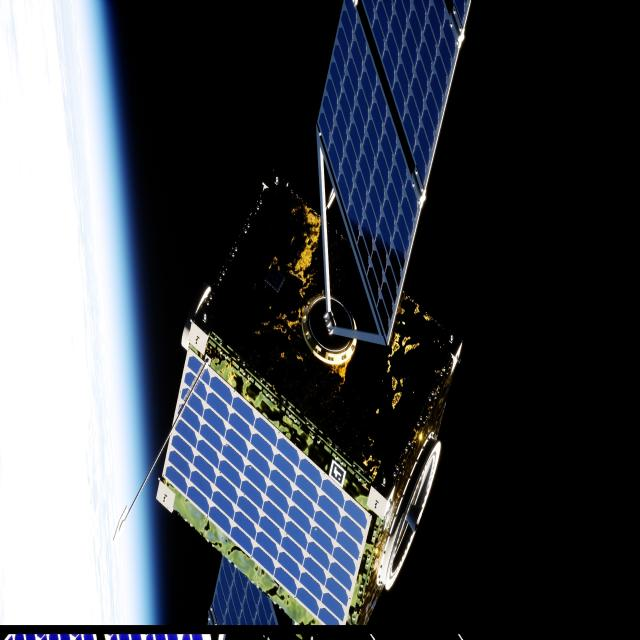satellite: (156, 0, 471, 629)
